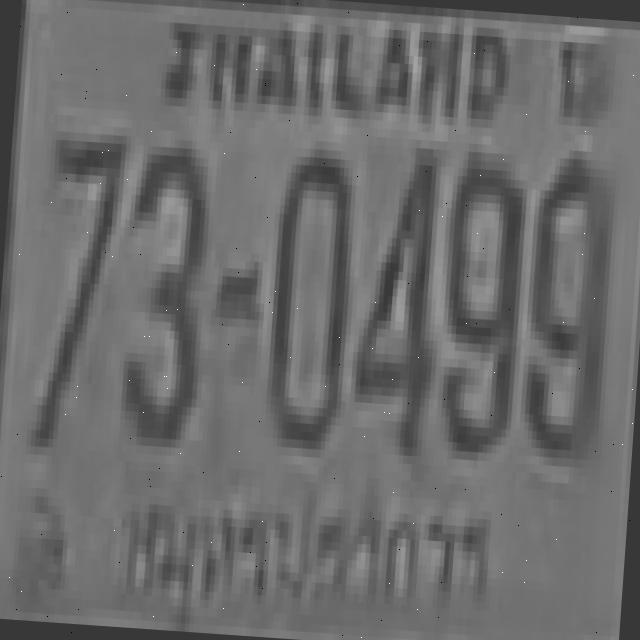0: (259, 138, 354, 442)
3: (114, 136, 210, 440)
4: (347, 140, 442, 452)
7: (29, 122, 124, 442)
9: (518, 148, 613, 451), (430, 150, 524, 454)
SamutPrakan: (109, 460, 499, 636)
